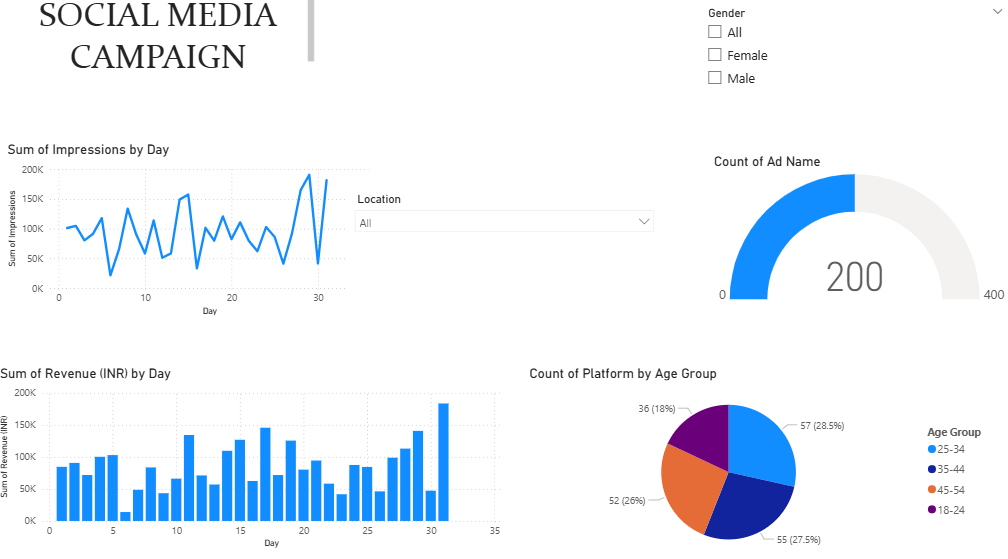

The dashboard page shown, as its layout file describes it:
{"tool":"powerbi","page":{"name":"Page 1","canvas":[1280,720],"ordinal":0},"visuals":[{"type":"textbox","box":[10.1,0,396.4,104.1],"z":0},{"type":"clusteredColumnChart","fields":{"Category":["Sheet1.Date.Variation.Date Hierarchy.Year","Sheet1.Date.Variation.Date Hierarchy.Quarter","Sheet1.Date.Variation.Date Hierarchy.Month","Sheet1.Date.Variation.Date Hierarchy.Day"],"Y":["Sum(Sheet1.Revenue (INR))"]},"box":[0,472,640,235.2],"z":1000},{"type":"pieChart","fields":{"Category":["Sheet1.Age Group"],"Y":["CountNonNull(Sheet1.Platform)"]},"box":[666.9,472,598,248.6],"z":2000},{"type":"lineChart","fields":{"Category":["Sheet1.Date.Variation.Date Hierarchy.Year","Sheet1.Date.Variation.Date Hierarchy.Quarter","Sheet1.Date.Variation.Date Hierarchy.Month","Sheet1.Date.Variation.Date Hierarchy.Day"],"Y":["Sum(Sheet1.Impressions)"]},"box":[10.1,191.5,465.3,223.4],"z":3000},{"type":"gauge","fields":{"Y":["CountNonNull(Sheet1.Ad Name)"]},"box":[898.7,206.6,381.3,193.2],"z":4000},{"type":"slicer","fields":{"Values":["Sheet1.Location"]},"box":[441.8,250.3,396.4,149.5],"z":5000},{"type":"slicer","fields":{"Values":["Sheet1.Gender"]},"box":[883.6,15.1,396.4,149.5],"z":6000}]}

Visuals, with their boxes in screenshot pixels (x1, y1, x2, y2), scaled from the page's 1280x720 canvas onto the 1008x559 screenshot:
textbox: [8, 0, 320, 81]
clusteredColumnChart - Sheet1.Date.Variation.Date Hierarchy.Year x Sheet1.Date.Variation.Date Hierarchy.Quarter: [0, 366, 504, 549]
pieChart - Sheet1.Age Group x CountNonNull(Sheet1.Platform): [525, 366, 996, 558]
lineChart - Sheet1.Date.Variation.Date Hierarchy.Year x Sheet1.Date.Variation.Date Hierarchy.Quarter: [8, 149, 374, 322]
gauge - CountNonNull(Sheet1.Ad Name): [708, 160, 1007, 310]
slicer - Sheet1.Location: [348, 194, 660, 310]
slicer - Sheet1.Gender: [696, 12, 1007, 128]
